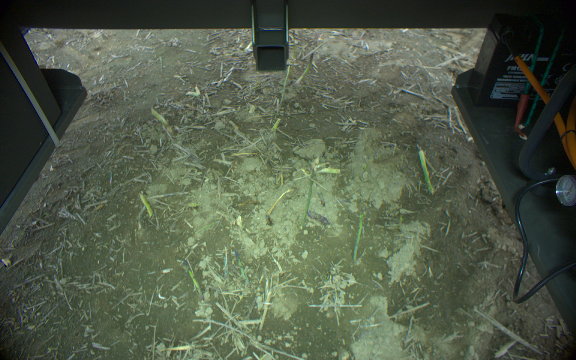aspa: (176, 257, 202, 299), (412, 147, 434, 196), (300, 167, 314, 224), (293, 51, 314, 84), (350, 212, 363, 263), (233, 250, 249, 288), (136, 189, 155, 218), (309, 209, 329, 228)
